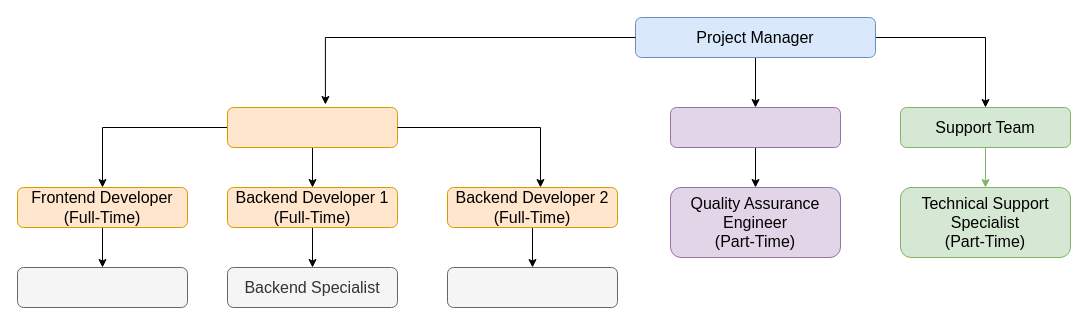
Some shapes in this 1088 by 325 pixel diagram are drawn without their labels. The box of each missing label's shape, as (x1, y1, x2, y2) in pixels:
Backend & DevOps Specialist: (446, 266, 618, 308)
Development Team: (226, 106, 398, 148)
Frontend Specialist: (16, 266, 188, 308)
QA Team: (670, 106, 840, 148)
